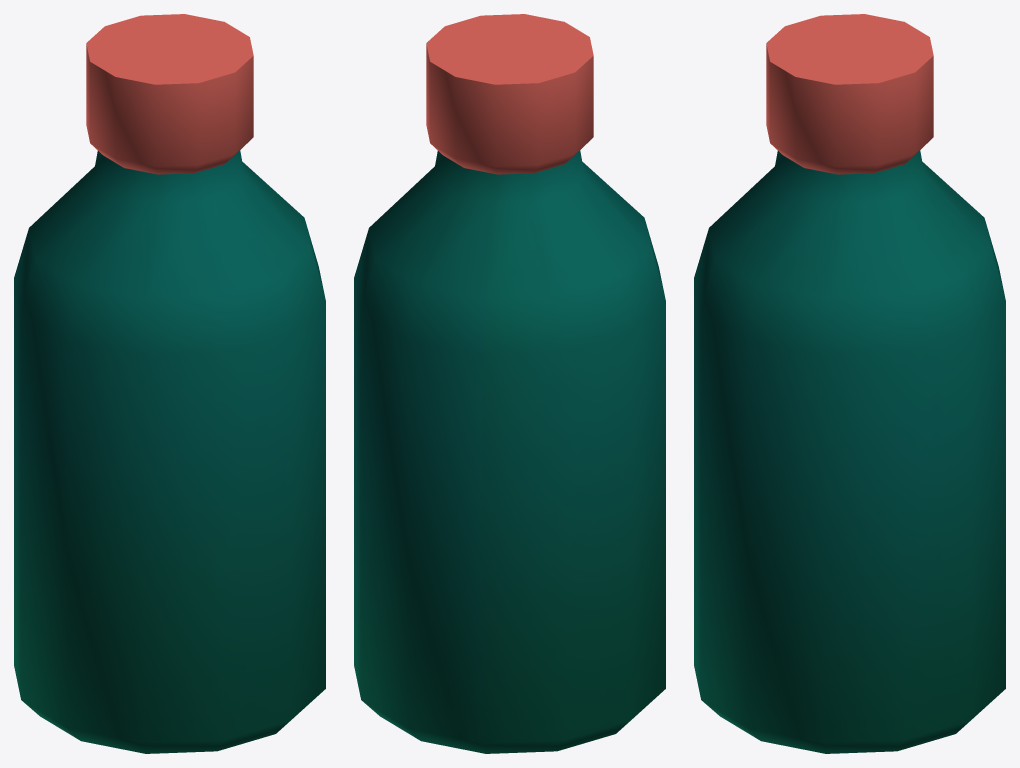
File: SM_drink_soda_08.fbx
3 renders of one model, left to right at view 1: azimuth 30°, elevation 25°; view 2: azimuth 150°, elevation 25°; view 3: azimuth 270°, elevation 25°, orthographic.
Parts seen in each view (by area): view 1: Cylinder069; view 2: Cylinder069; view 3: Cylinder069.
Part boxes in pixels (box(x1,y1,x2,y2)): Cylinder069: box(14, 14, 325, 753); Cylinder069: box(354, 14, 665, 753); Cylinder069: box(694, 14, 1005, 753).
Bounding box in the file's own units: 8.86 × 20.28 × 8.86.
